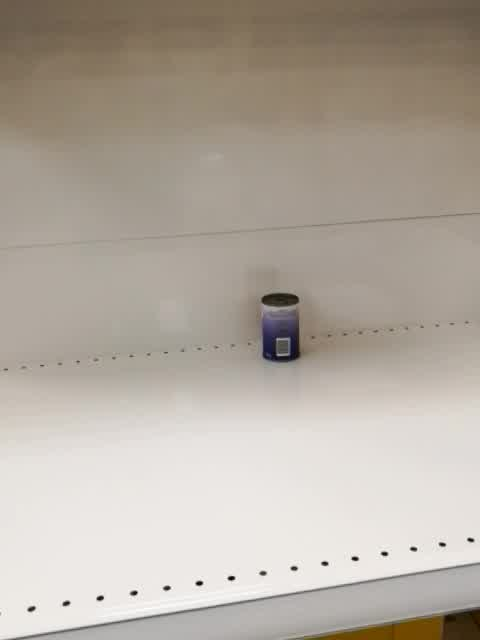sardine: (259, 291, 301, 363)
